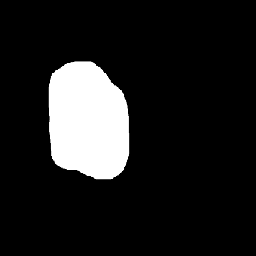mass: (53, 67, 122, 169)
